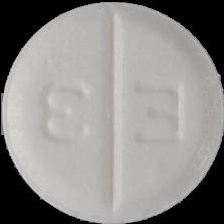55289-603: (0, 0, 224, 224)
